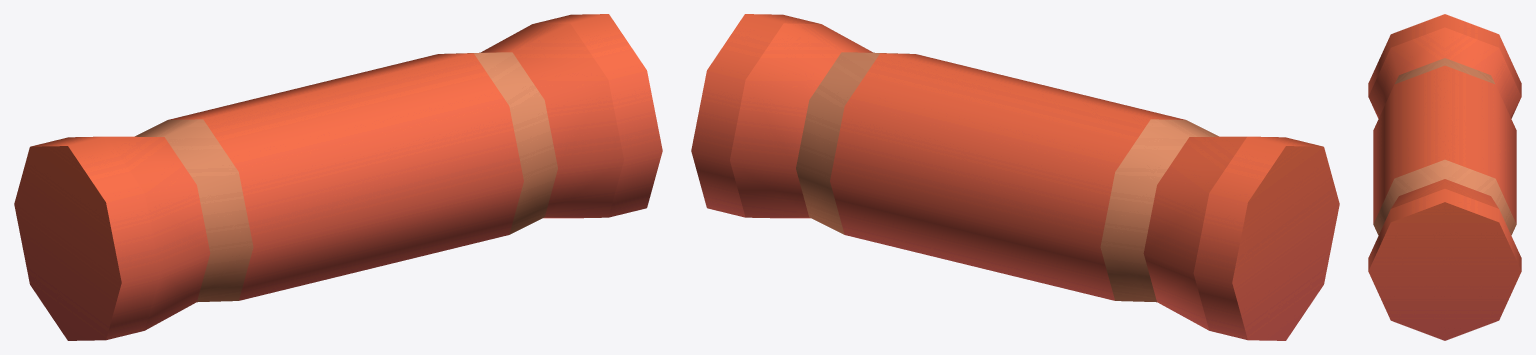
Rendered from bedroll-packed.glb.
3 renders of one model, left to right at view 1: azimuth 30°, elevation 25°; view 2: azimuth 150°, elevation 25°; view 3: azimuth 270°, elevation 25°, orthographic. The views are drawn at different scales.
Visible parts, largest first — view 1: bedroll-packed; view 2: bedroll-packed; view 3: bedroll-packed.
Boxes of the visible parts, box(x1,y1,x2,y2) form: bedroll-packed: box(14, 14, 662, 340); bedroll-packed: box(691, 14, 1339, 340); bedroll-packed: box(1368, 14, 1521, 340).
Bounding box in the file's own units: 0.2604 × 0.0897 × 0.0897.
1 material, 1 textured.
